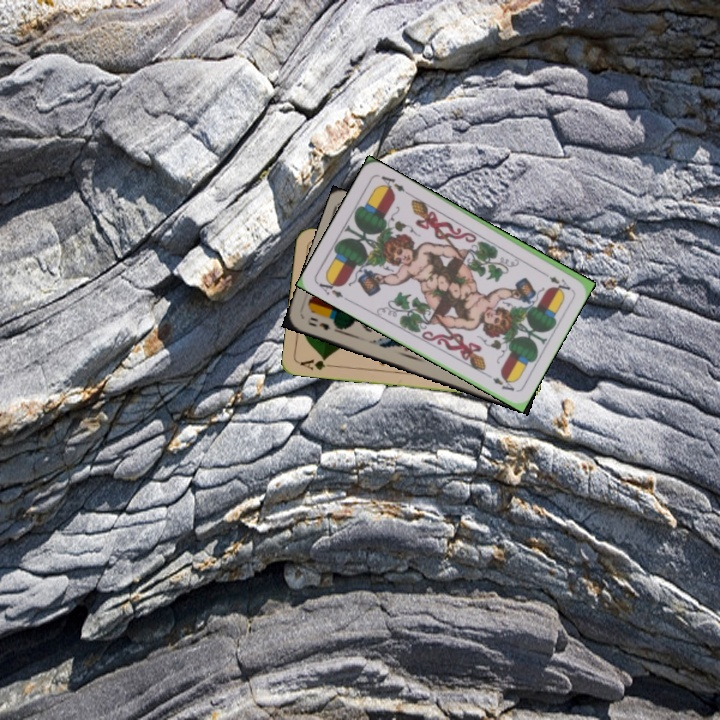EA: (537, 267, 573, 293), (314, 274, 346, 300)
EO: (304, 313, 341, 334)
GA: (296, 354, 337, 373)
